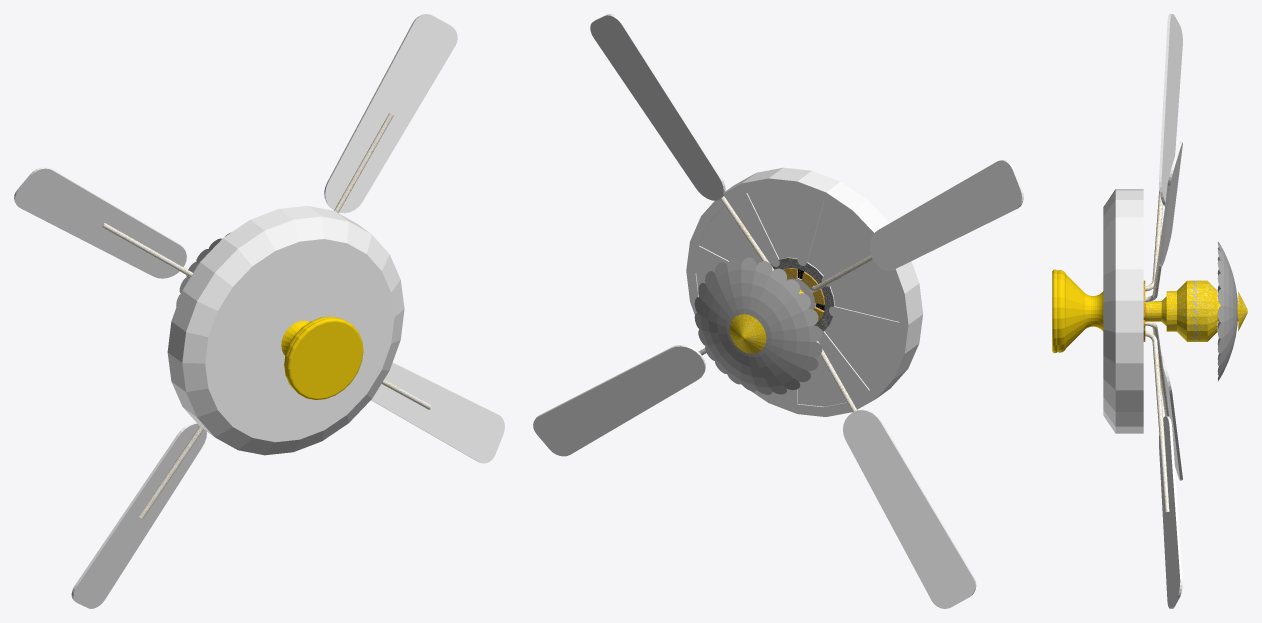
The picture shows the model from 3 angles, left to right: view 1: azimuth 30°, elevation 25°; view 2: azimuth 150°, elevation 25°; view 3: azimuth 270°, elevation 25°; orthographic projection. The views are drawn at different scales.
Parts seen in each view (by area): view 1: ceiling fan; view 2: ceiling fan; view 3: ceiling fan.
Part boxes in pixels (<box>): ceiling fan: <box>14,14,504,608</box>; ceiling fan: <box>533,14,1023,608</box>; ceiling fan: <box>1052,14,1247,608</box>.
Size of the model in its own units: 52.87 by 52.91 by 19.13.
